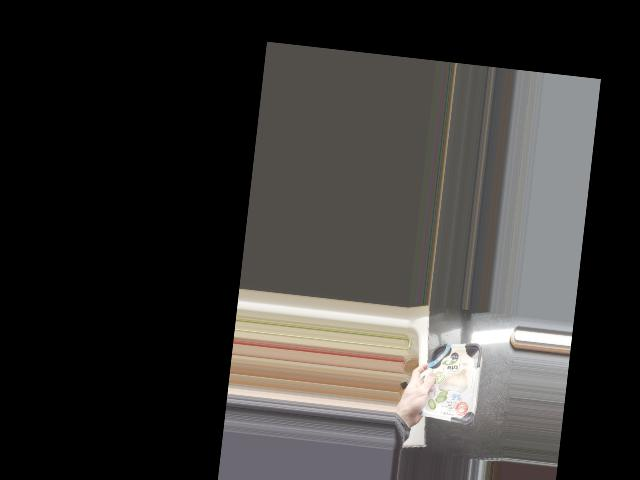cheese: (414, 339, 482, 424)
